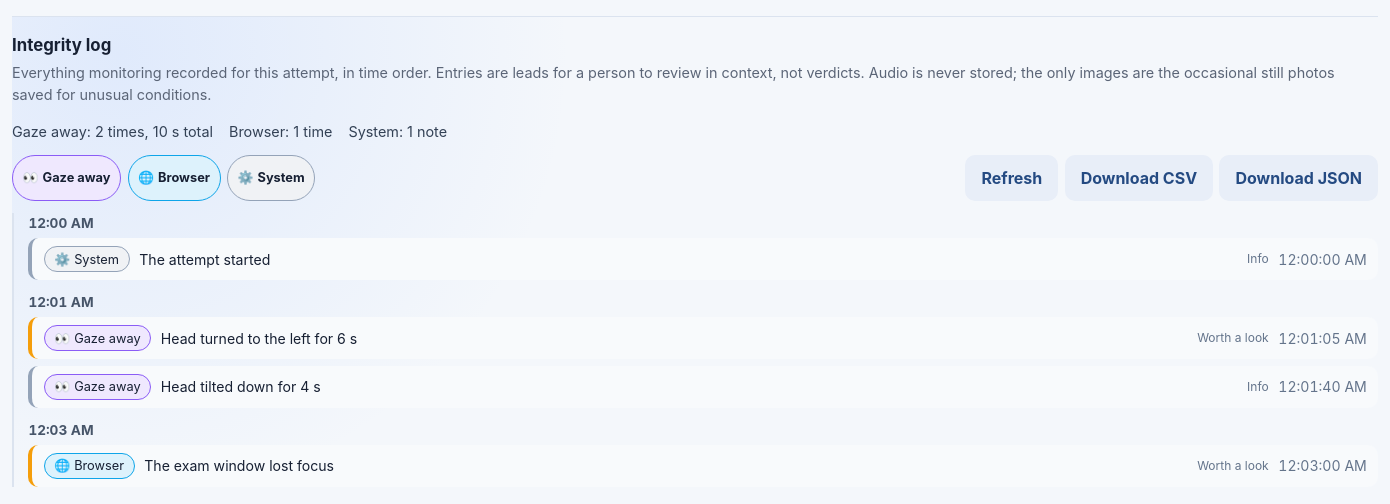
Test: renders a minute-grouped log with counts, and filters by source
Expected: the list with class "integrity-timeline__counts" shows "Gaze away: 2 times, 10 s total", x1=12 y1=123 x2=213 y2=140
Expected: the number of list items with class "integrity-timeline__minute" is 3, x1=28 y1=213 x2=1378 y2=280; x1=28 y1=292 x2=1378 y2=408; x1=28 y1=420 x2=1378 y2=487
Click the button with class "timeline-chip" showing "👀 Gaze away".
click(67, 178)  # box x1=12 y1=155 x2=121 y2=201
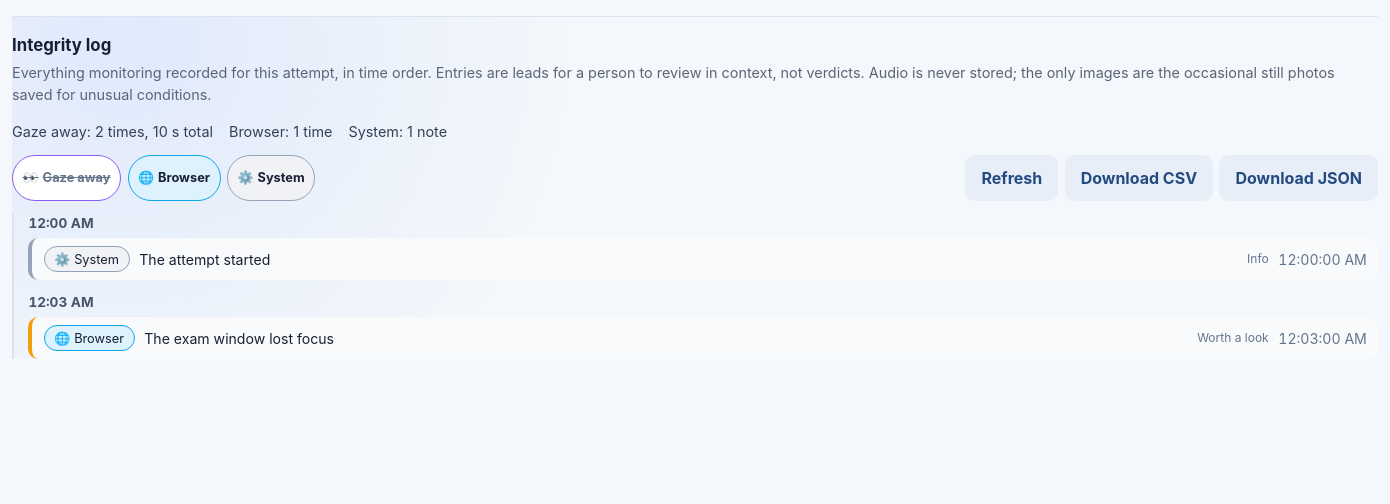
Now the number of list items with class "timeline-item" is 2, box x1=28 y1=238 x2=1378 y2=280; x1=28 y1=317 x2=1378 y2=359
Now the text "Head turned to the left" is gone
